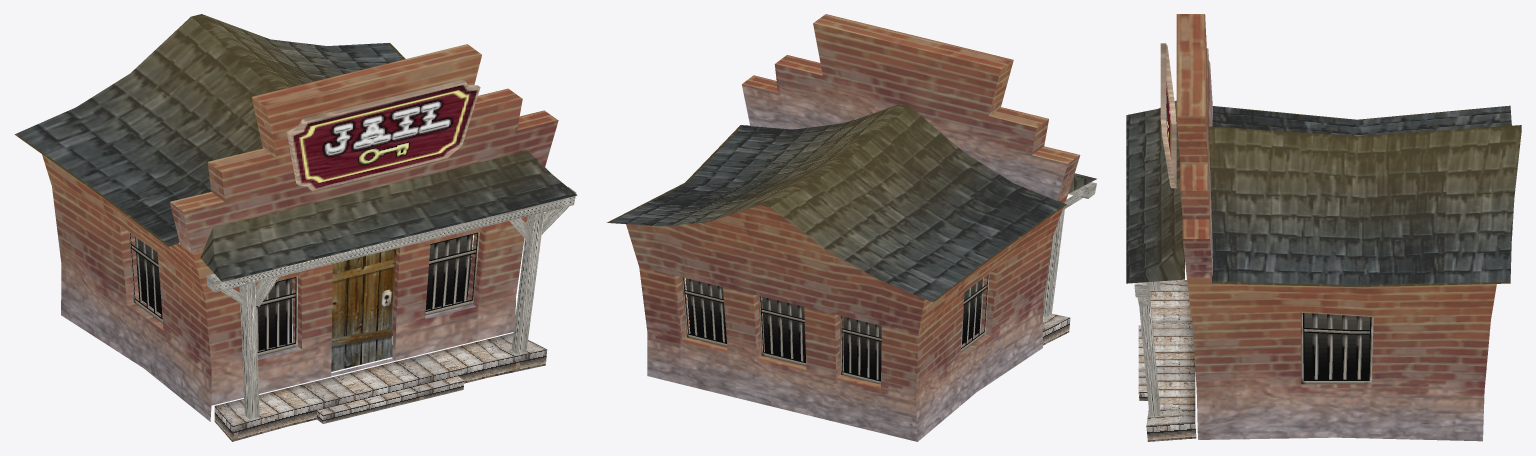
3 views of the same model, side by side, from view 1: azimuth 30°, elevation 25°; view 2: azimuth 150°, elevation 25°; view 3: azimuth 270°, elevation 25° (orthographic). The views are drawn at different scales.
Visible parts, largest first — view 1: walls, roof, door_sign, porch, posts, darks, bars, bars2; view 2: walls, roof, darks, bars4, posts, bars2, porch; view 3: roof, walls, porch, darks, bars3, posts, door_sign.
Part boxes in pixels (left/top/right/bottom): walls: left=42, top=44, right=558, bottom=421; roof: left=14, top=14, right=577, bottom=281; door_sign: left=286, top=79, right=480, bottom=371; porch: left=214, top=333, right=547, bottom=441; posts: left=206, top=187, right=576, bottom=419; darks: left=137, top=234, right=473, bottom=350; bars: left=256, top=232, right=479, bottom=356; bars2: left=129, top=232, right=162, bottom=323; walls: left=626, top=14, right=1080, bottom=441; roof: left=607, top=103, right=1096, bottom=302; darks: left=685, top=278, right=981, bottom=380; bars4: left=681, top=277, right=881, bottom=384; posts: left=1043, top=182, right=1096, bottom=317; bars2: left=960, top=273, right=989, bottom=352; porch: left=980, top=297, right=1070, bottom=345; roof: left=1126, top=100, right=1521, bottom=286; walls: left=1176, top=14, right=1496, bottom=441; porch: left=1138, top=279, right=1196, bottom=441; darks: left=1304, top=313, right=1370, bottom=379; bars3: left=1300, top=312, right=1373, bottom=384; posts: left=1134, top=281, right=1160, bottom=416; door_sign: left=1160, top=43, right=1176, bottom=188.
Size of the model in its own units: 436 by 346 by 410.
Materials: 10 (10 with a texture image).
